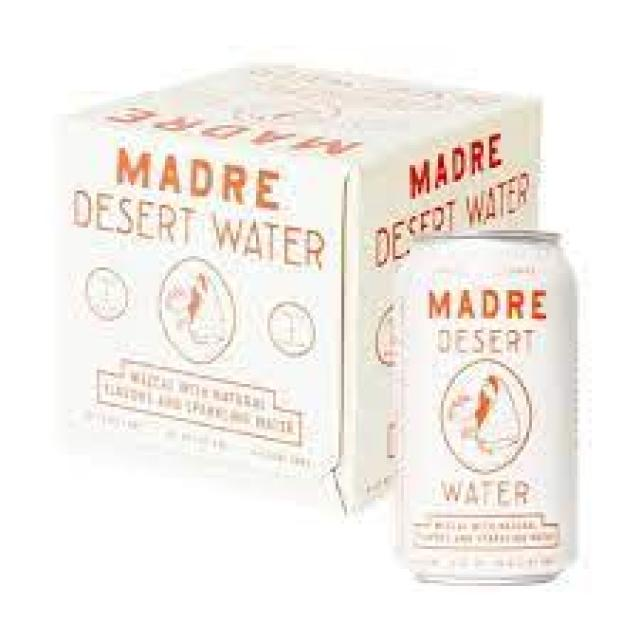Cans: (387, 228, 594, 594)
